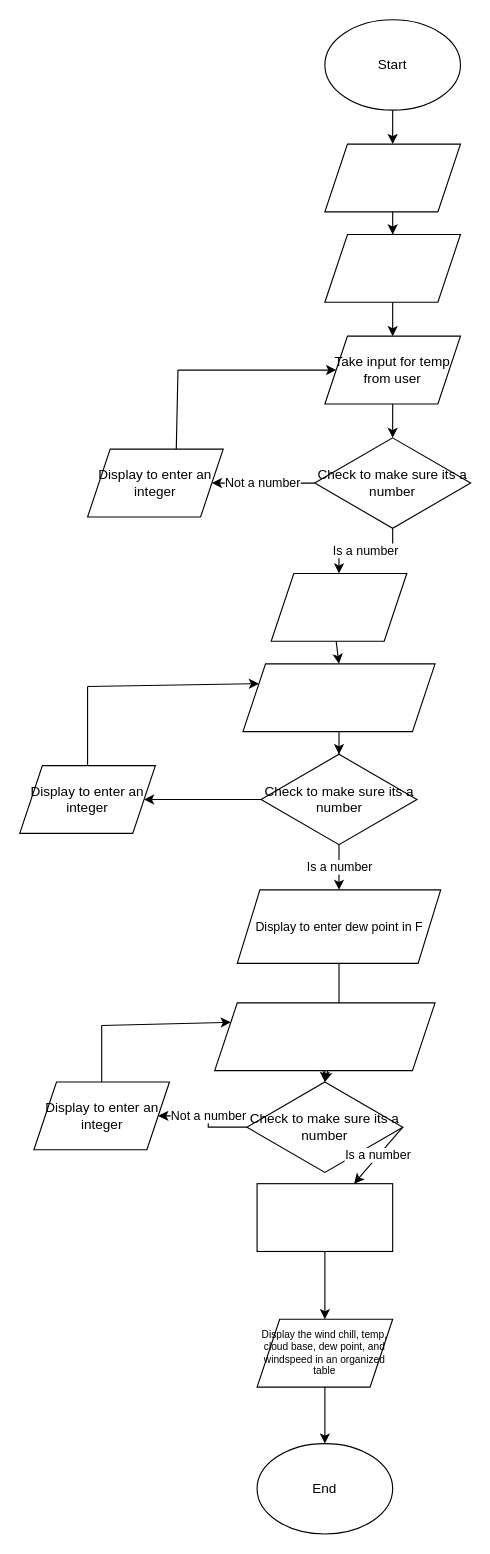
Some shapes in this 490 by 1554 pixel diagram are drawn without their labels. The centre of each missing label's shape, as x and y in pixels:
"Calculate wind chill in F and Cloud Base in feet" goes at (324,1217).
"Display fancy box with text inside that explains the program" goes at (392,177).
"Display to enter the temp in F" goes at (392,267).
"Display to enter wind speed in MPH" goes at (338,606).
"Take input for dew point from user" goes at (324,1036).
"Take input for mph from user" goes at (338,697).
